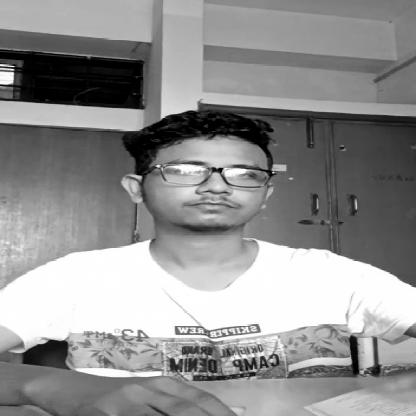Normal: (134, 111, 276, 234)
